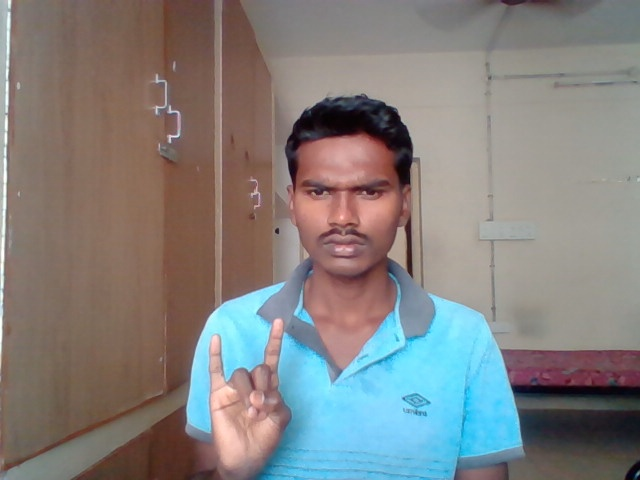I Love You: (206, 315, 296, 475)
